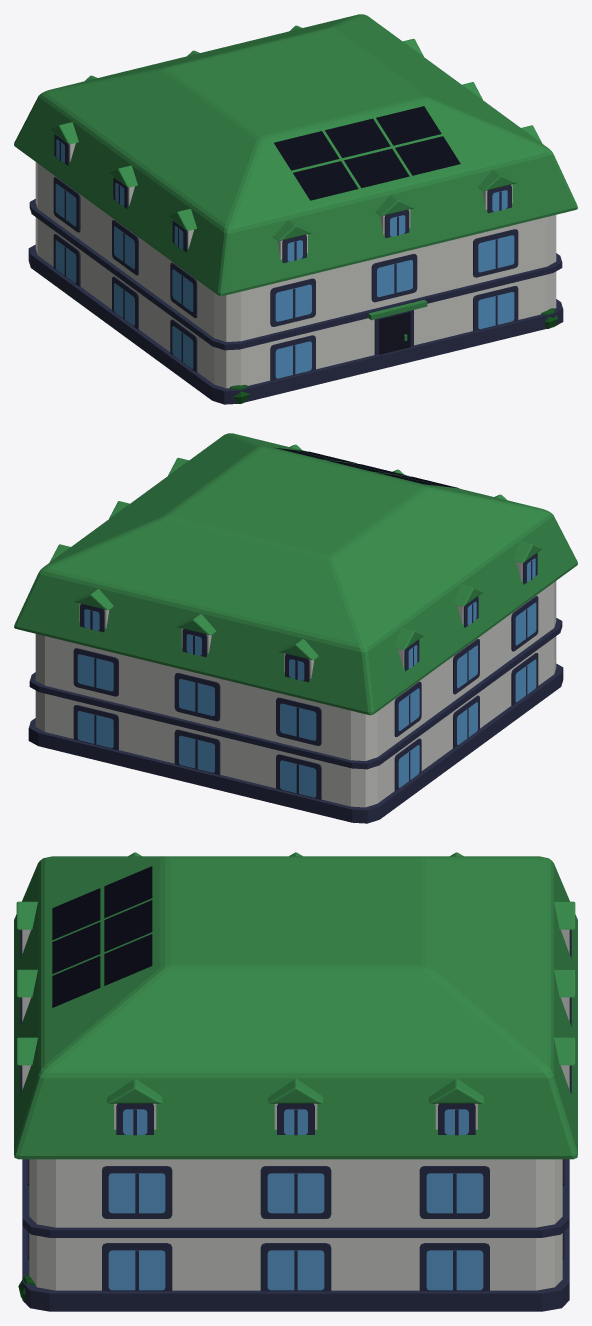
Rendered from house-2x2-2f-mansard-a-solar.glb.
3 renders of one model, top to bottom at view 1: azimuth 30°, elevation 25°; view 2: azimuth 150°, elevation 25°; view 3: azimuth 270°, elevation 25°, orthographic. The views are drawn at different scales.
Visible parts, largest first — view 1: house-2x2-2f-mansard-a-solar; view 2: house-2x2-2f-mansard-a-solar; view 3: house-2x2-2f-mansard-a-solar.
Part boxes in pixels (box(x1,y1,x2,y2)): house-2x2-2f-mansard-a-solar: box(14, 14, 577, 404); house-2x2-2f-mansard-a-solar: box(14, 433, 577, 823); house-2x2-2f-mansard-a-solar: box(14, 852, 577, 1311).
Size of the model in its own units: 1.99 by 1.11 by 1.99.
1 material, 1 textured.
